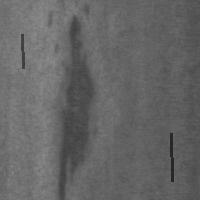inclusion: (53, 11, 96, 199), (41, 5, 57, 33), (169, 131, 174, 183), (20, 32, 25, 70)
